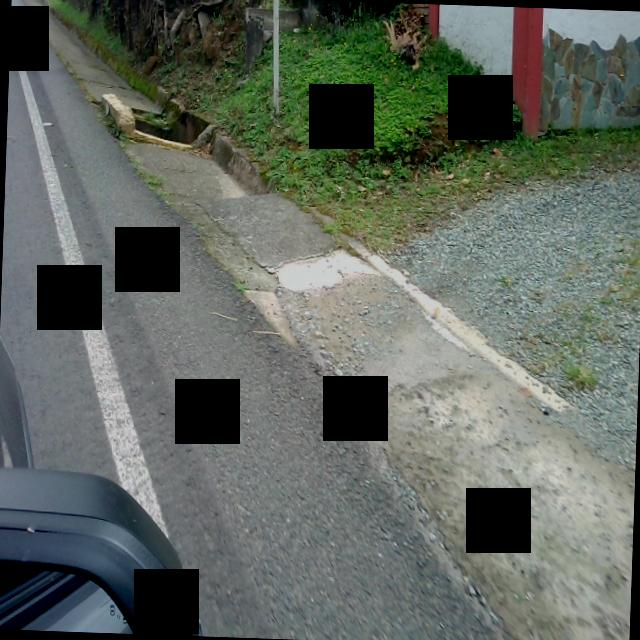DITCH: (0, 0, 640, 640), (57, 0, 640, 640)
